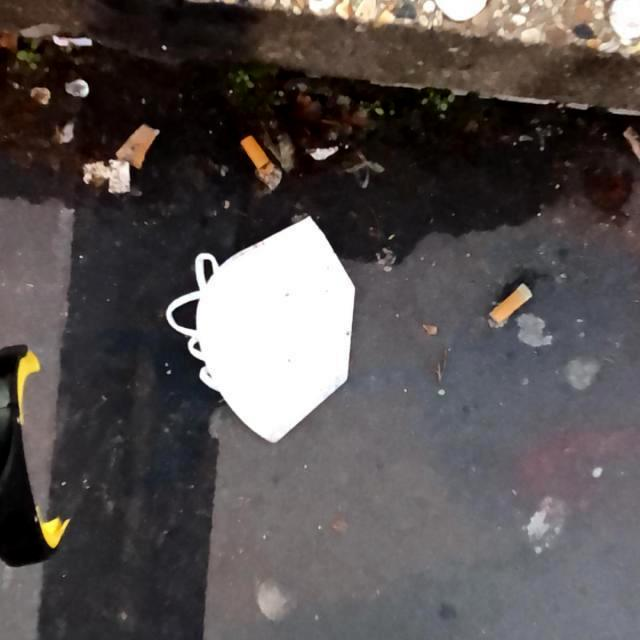Mask: (162, 211, 356, 445)
